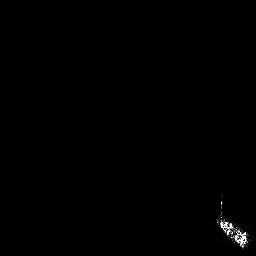ship: (214, 193, 252, 251)
